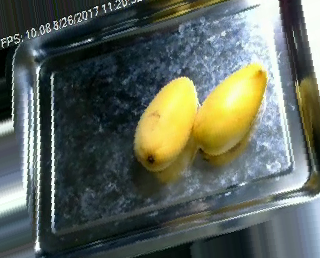Mango: (194, 65, 267, 156), (131, 77, 195, 170)
